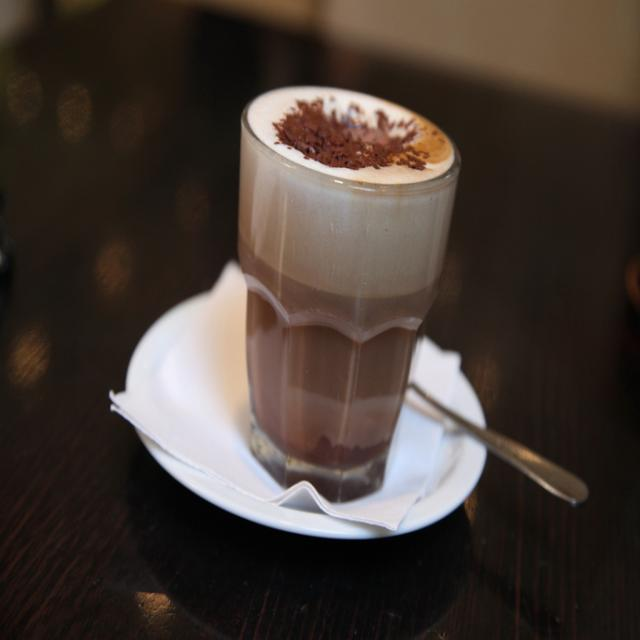Coffee: (240, 92, 468, 520)
